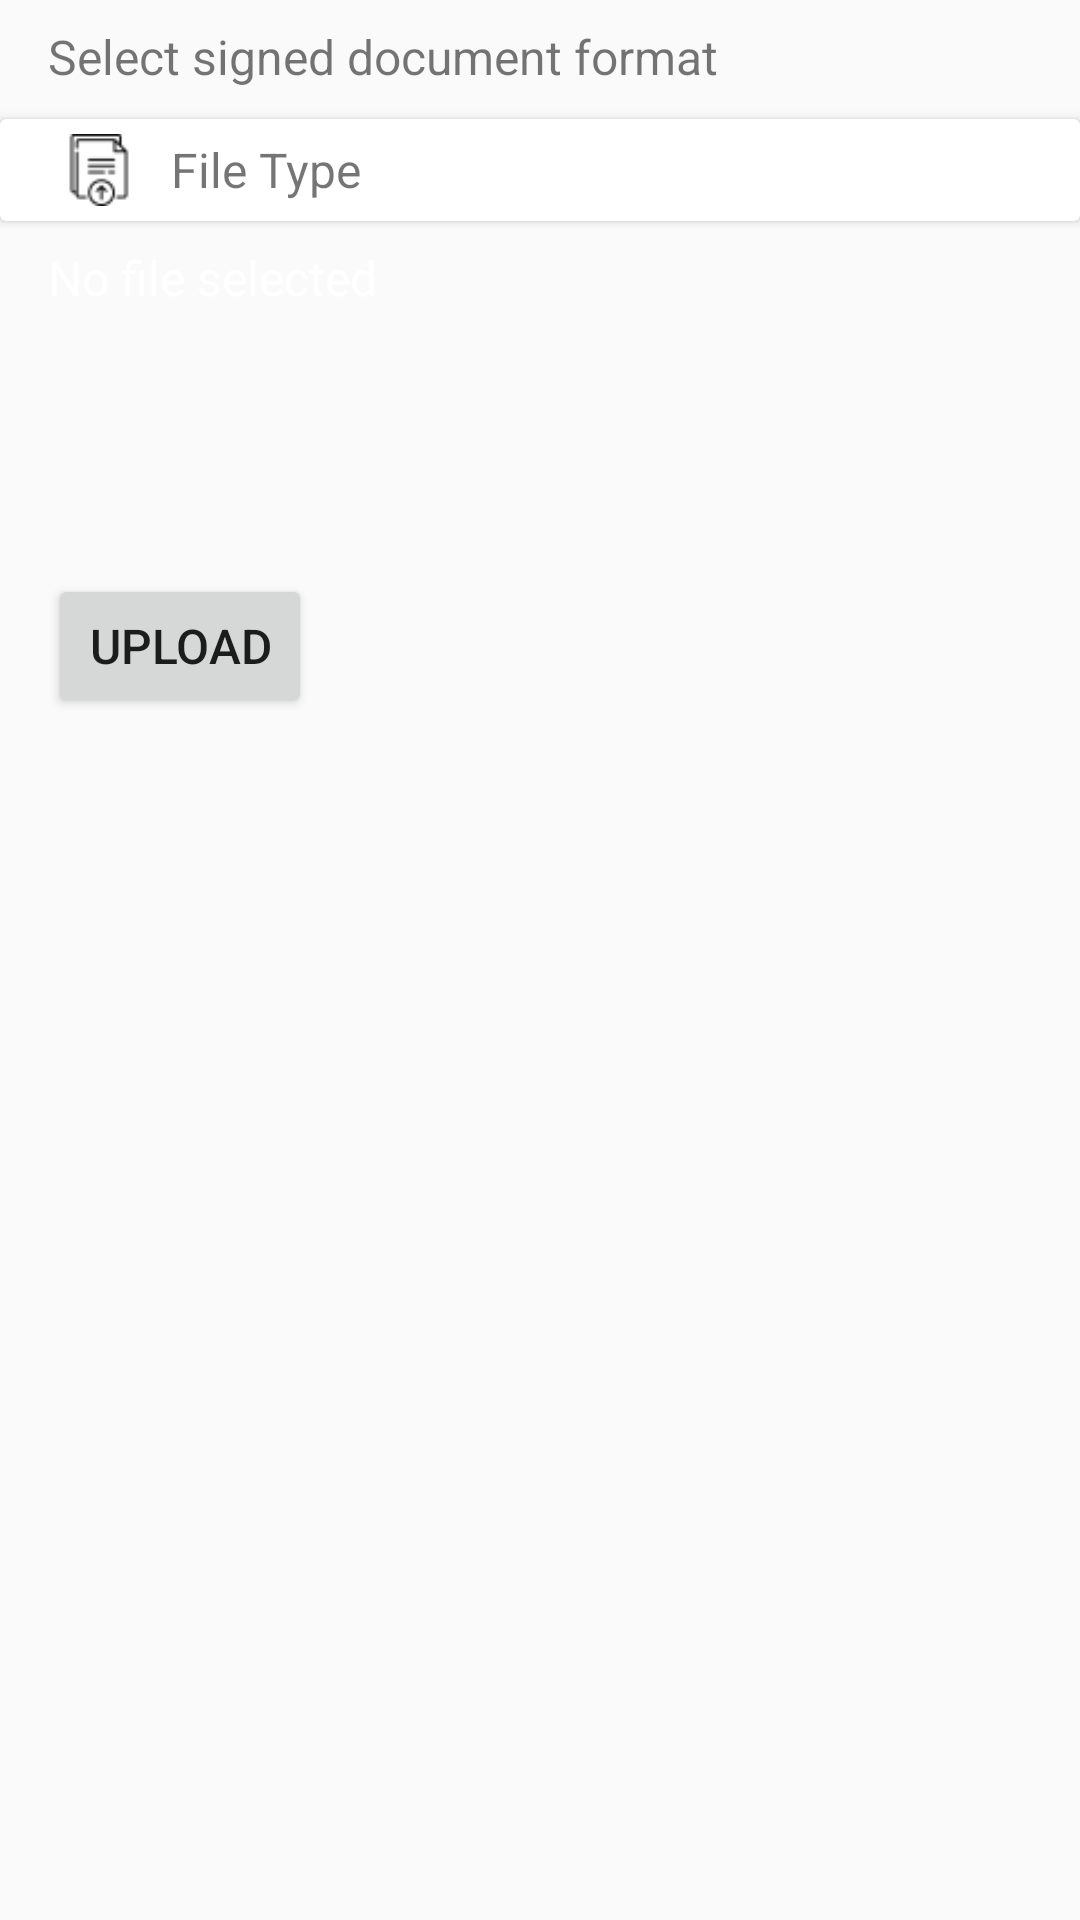

Icon click points for this 1080 × 1920 phone screenshot, format (x=x, y=y):
upload: (x=99, y=170)
